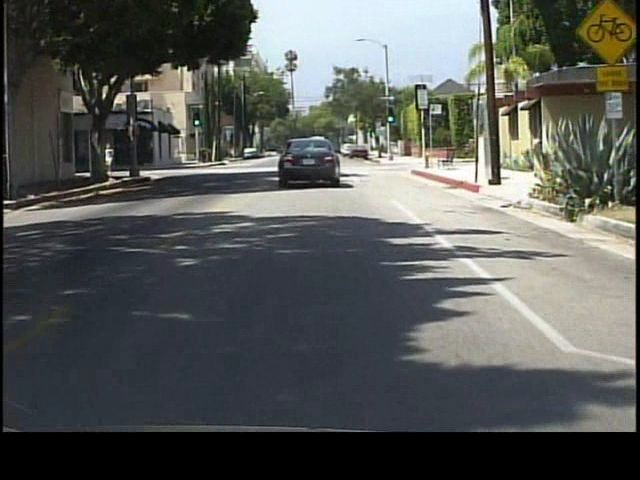person: (107, 140, 117, 177)
